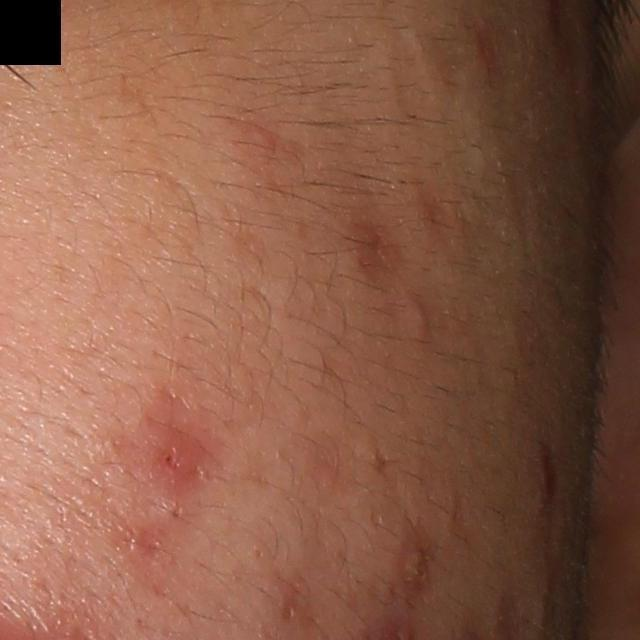comedo: (277, 604, 294, 626)
